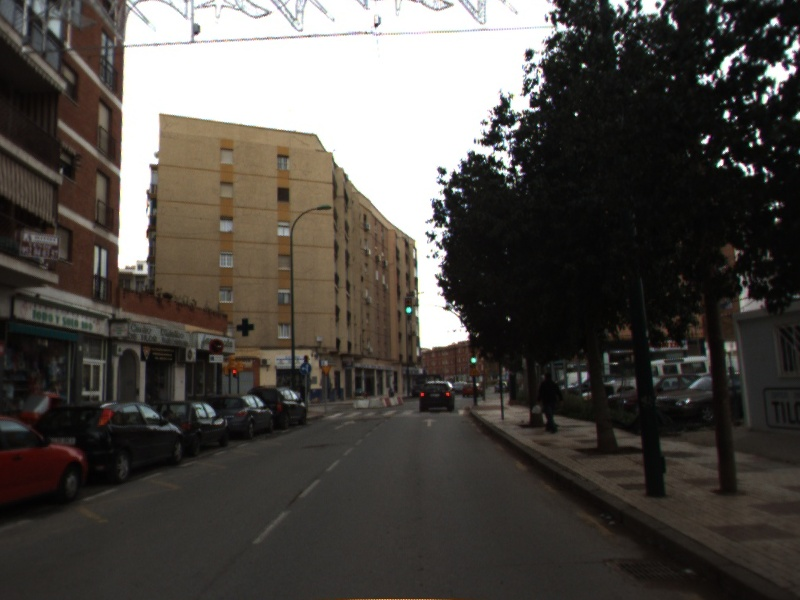STRAIGHT: (332, 418, 358, 431), (420, 417, 439, 428)
